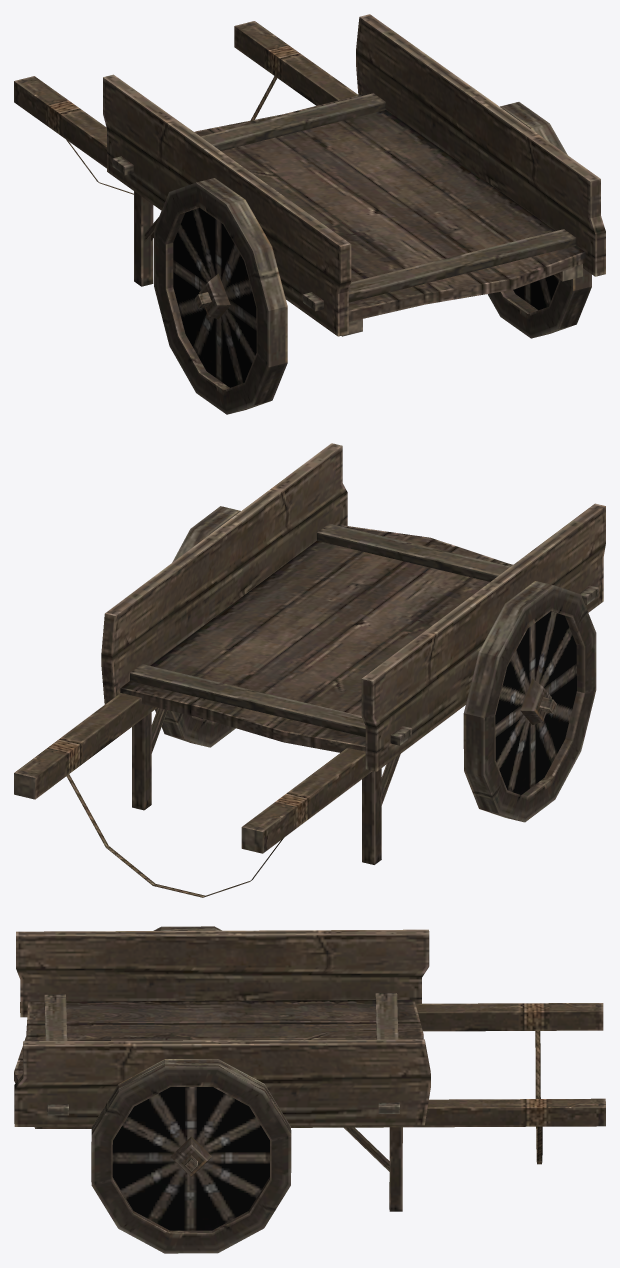
3 renders of one model, top to bottom at view 1: azimuth 30°, elevation 25°; view 2: azimuth 150°, elevation 25°; view 3: azimuth 270°, elevation 25°, orthographic. The views are drawn at different scales.
Parts seen in each view (by area): view 1: qingmo_obj_296 [10484660]; view 2: qingmo_obj_296 [10484660]; view 3: qingmo_obj_296 [10484660].
Boxes of the visible parts, x1=… form: qingmo_obj_296 [10484660]: x1=14, y1=14, x2=605, y2=414; qingmo_obj_296 [10484660]: x1=14, y1=443, x2=605, y2=897; qingmo_obj_296 [10484660]: x1=14, y1=926, x2=605, y2=1253.
Size of the model in its own units: 17.32 by 28.49 by 10.37.
Materials: 1 (1 with a texture image).
